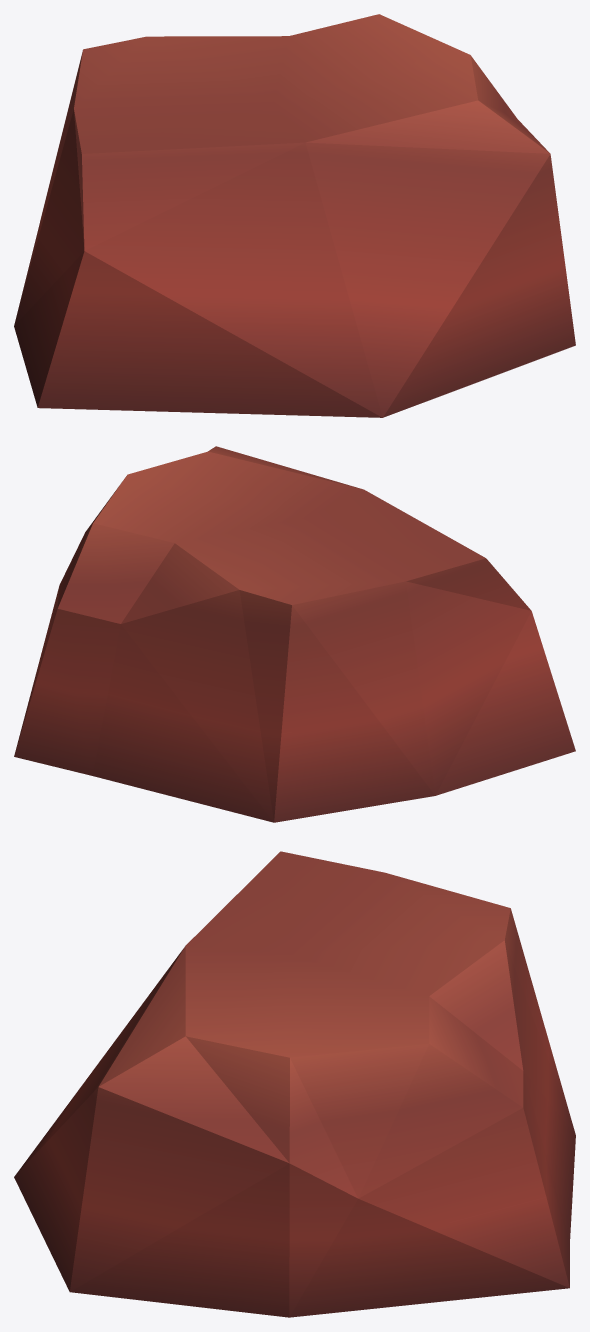
Rendered from pierre_2.fbx.
3 views of the same model, one above another, from view 1: azimuth 30°, elevation 25°; view 2: azimuth 150°, elevation 25°; view 3: azimuth 270°, elevation 25° (orthographic). The views are drawn at different scales.
Visible parts, largest first — view 1: Rocas.004; view 2: Rocas.004; view 3: Rocas.004.
Boxes of the visible parts, left/top/right/bottom form: Rocas.004: left=14, top=14, right=575, bottom=417; Rocas.004: left=14, top=446, right=575, bottom=822; Rocas.004: left=14, top=851, right=575, bottom=1317.
Bounding box in the file's own units: 351 × 141 × 308.
